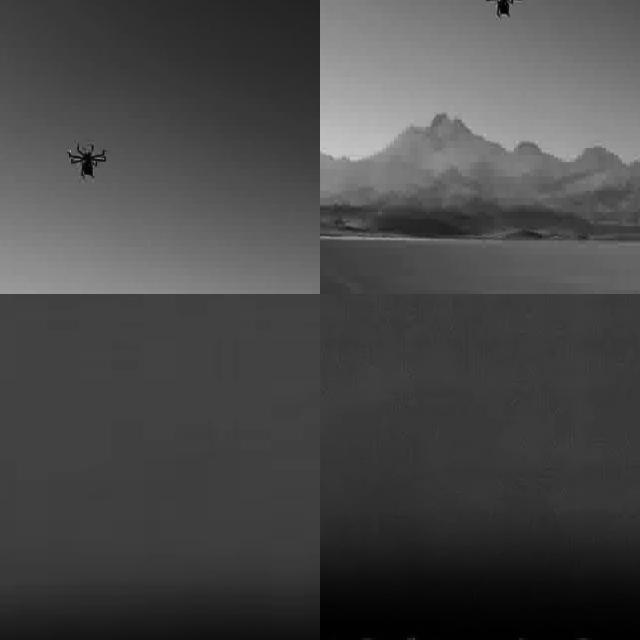drone: (64, 135, 107, 185), (482, 0, 521, 23)
